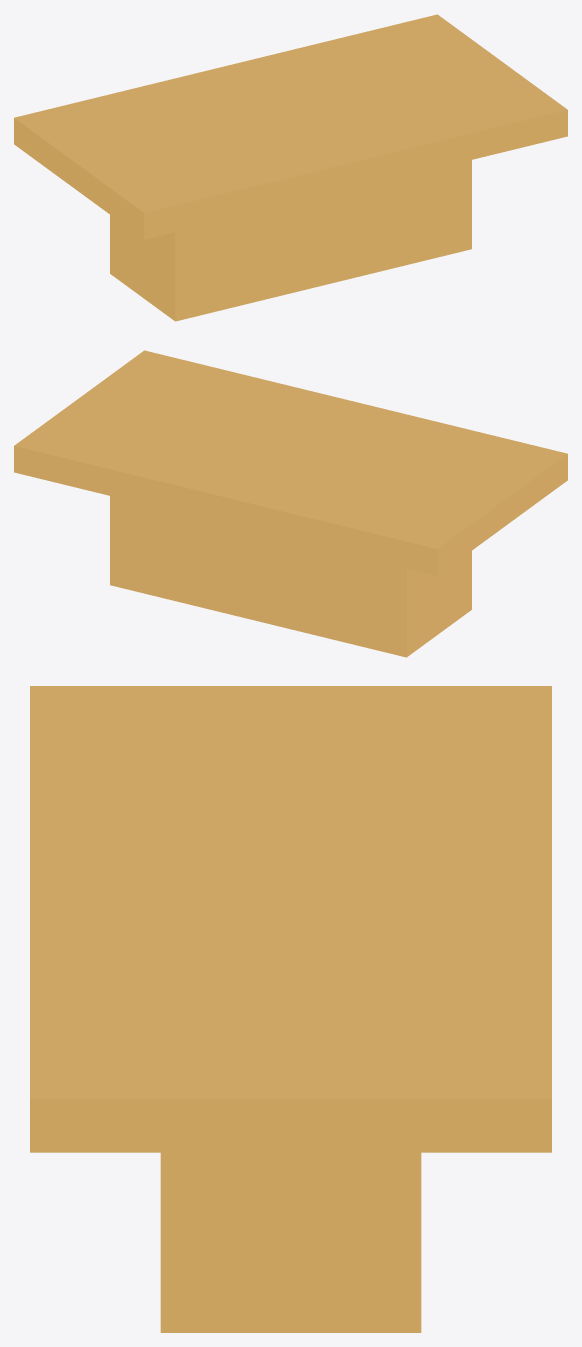
The model's file is prop_table_basse.glb.
The picture shows the model from 3 angles, top to bottom: view 1: azimuth 30°, elevation 25°; view 2: azimuth 150°, elevation 25°; view 3: azimuth 270°, elevation 25°; orthographic projection. The views are drawn at different scales.
Visible parts, largest first — view 1: MSH_table_basse; view 2: MSH_table_basse; view 3: MSH_table_basse.
Boxes of the visible parts, bbox=[...] form: MSH_table_basse: bbox=[14, 14, 567, 321]; MSH_table_basse: bbox=[14, 350, 567, 657]; MSH_table_basse: bbox=[30, 686, 551, 1332].
Bounding box in the file's own units: 3 × 1 × 1.6.
